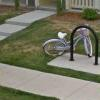Bicycle: (33, 19, 97, 67)
